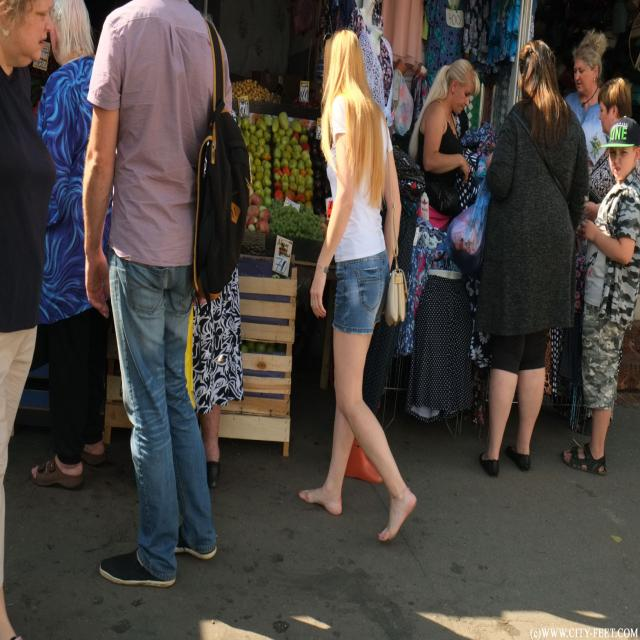Barefoots: (378, 489, 417, 541), (298, 488, 342, 515)
